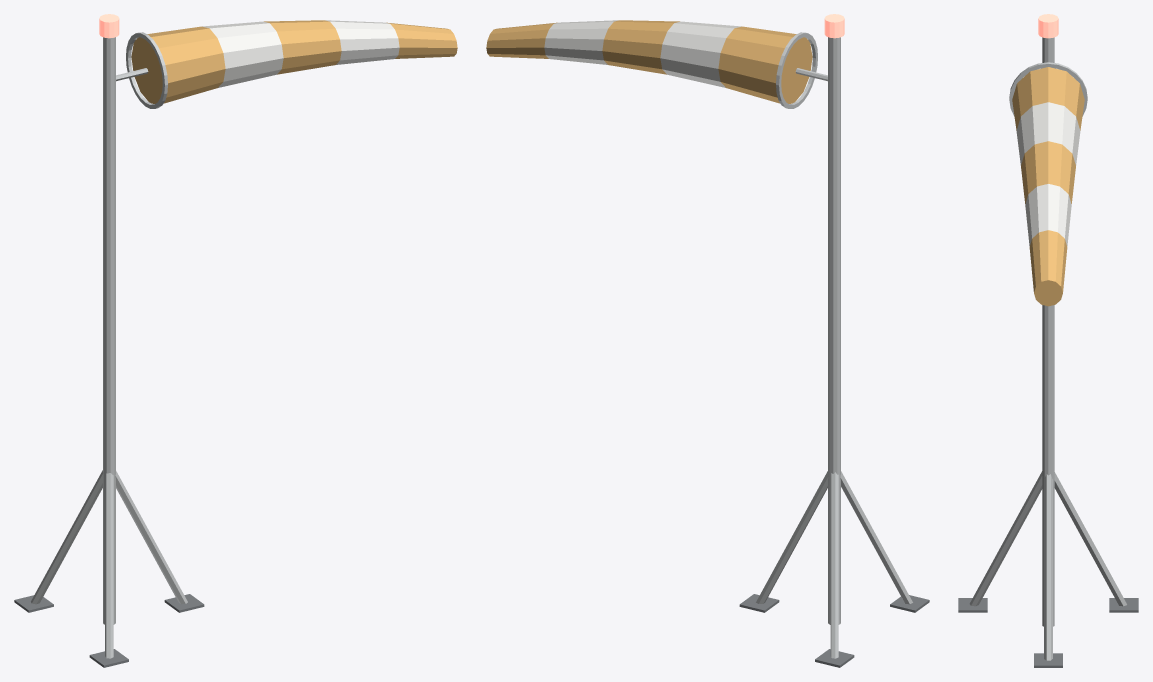
Rendered from windsock.glb.
3 renders of one model, left to right at view 1: azimuth 30°, elevation 25°; view 2: azimuth 150°, elevation 25°; view 3: azimuth 270°, elevation 25°, orthographic.
Visible parts, largest first — view 1: windsock_galv, windsock_flag_o, windsock_paint_w, windsock_steel_d; view 2: windsock_galv, windsock_flag_o, windsock_paint_w, windsock_steel_d; view 3: windsock_galv, windsock_flag_o, windsock_paint_w, windsock_steel_d, windsock_lens_r.
Boxes of the visible parts, x1,y1,x2,y2 form: windsock_galv: (31,32,187,658); windsock_flag_o: (131,20,457,103); windsock_paint_w: (202,20,399,87); windsock_steel_d: (14,594,204,667); windsock_galv: (756,32,912,658); windsock_flag_o: (486,20,812,103); windsock_paint_w: (544,20,741,87); windsock_steel_d: (739,594,929,667); windsock_galv: (969,37,1126,660); windsock_flag_o: (1012,67,1084,306); windsock_paint_w: (1016,102,1080,245); windsock_steel_d: (958,598,1138,667); windsock_lens_r: (1038,14,1058,38).
Size of the model in its own units: 3.12 by 4.62 by 1.24.
